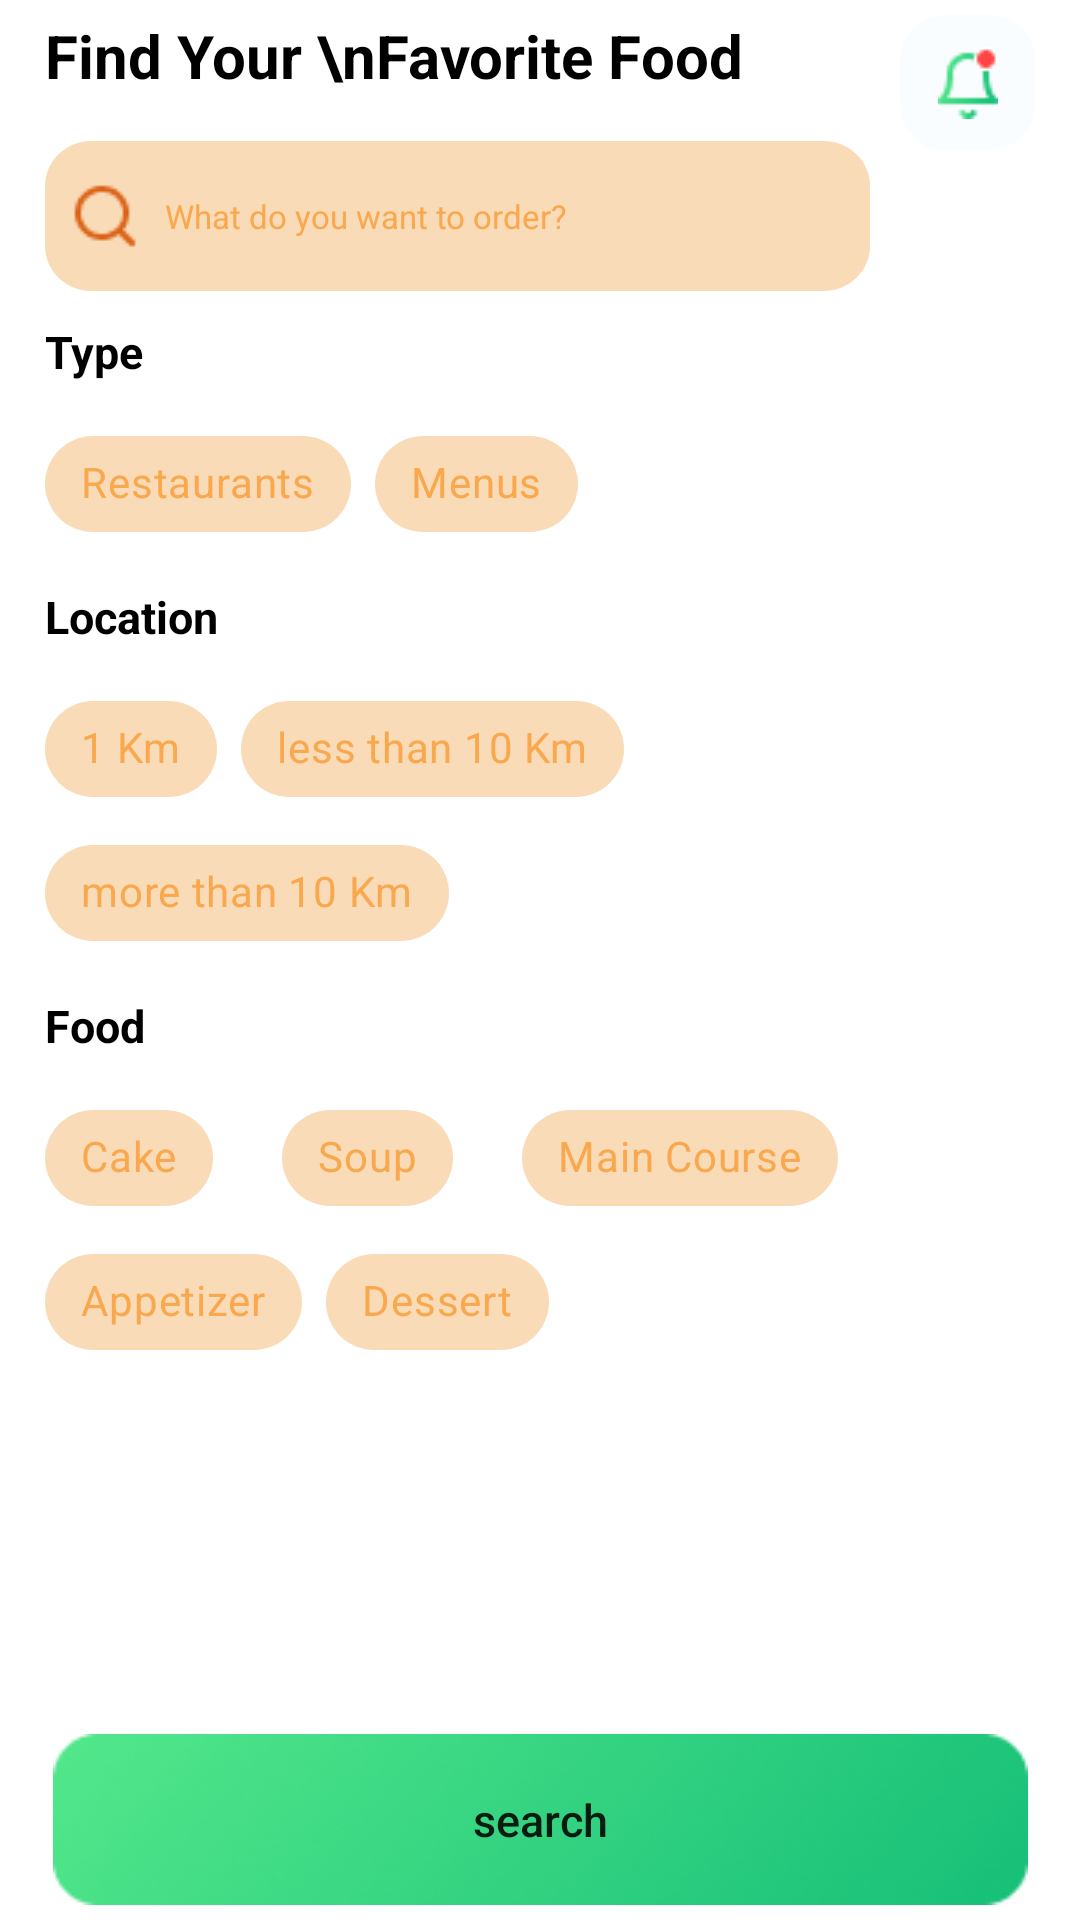

Screen size 1080px×1920px. Icon name, then its center in pixels as point (x, y):
notifyicon: point (968, 84)
